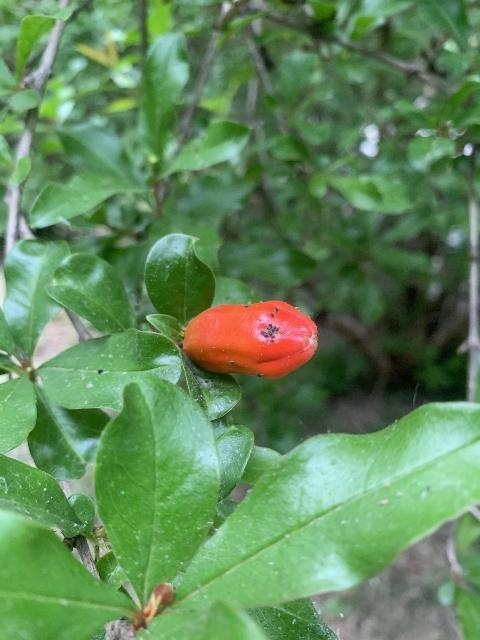bud: (181, 300, 319, 380)
